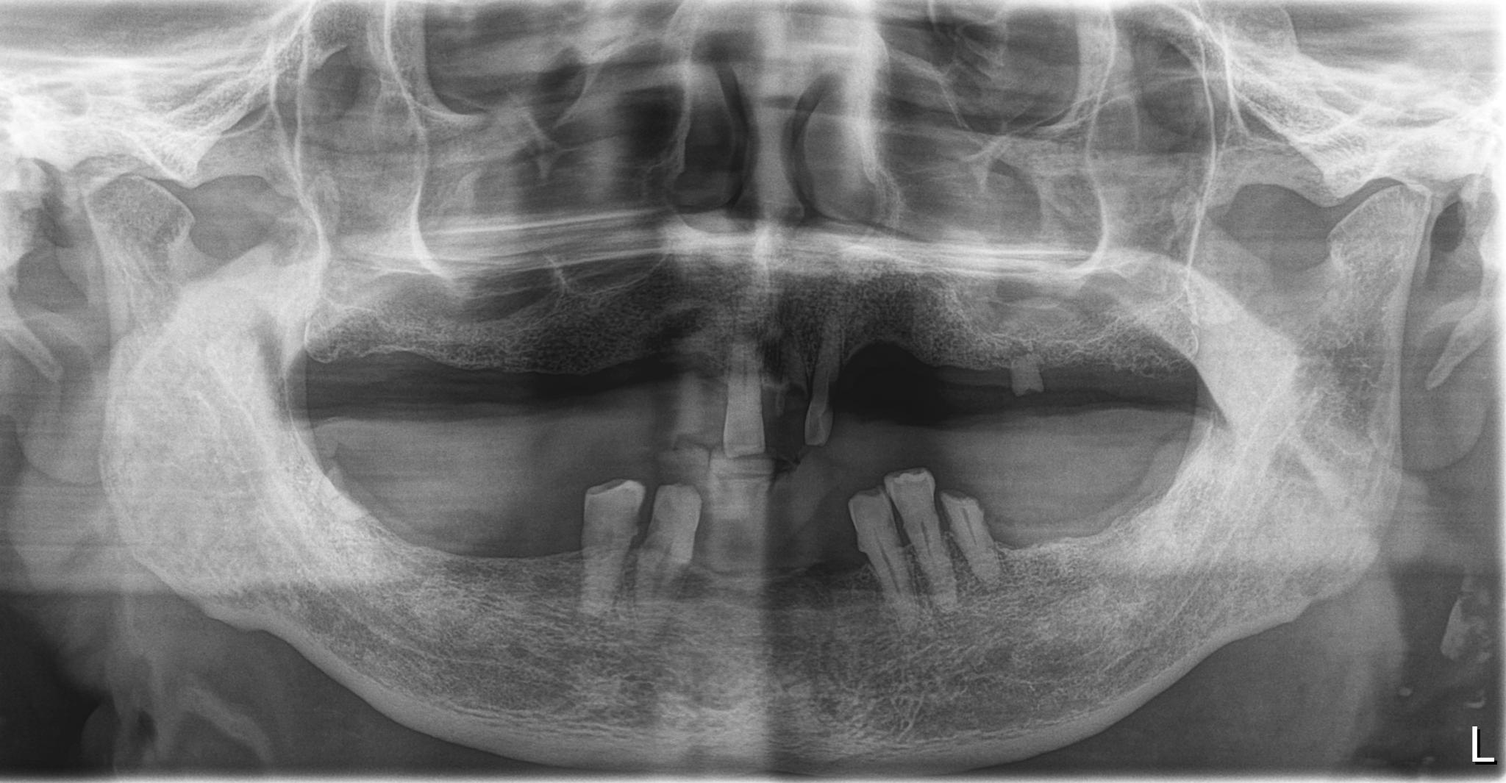Missing Tooth: (871, 246, 999, 422), (353, 303, 436, 451), (585, 311, 660, 459), (656, 309, 724, 457), (450, 300, 513, 453), (285, 301, 351, 441), (1136, 290, 1195, 437), (792, 502, 852, 644), (524, 307, 582, 451), (1110, 483, 1166, 616), (1077, 287, 1127, 426), (719, 505, 773, 631), (415, 496, 470, 611), (482, 500, 533, 617), (1009, 478, 1055, 601), (364, 493, 413, 603), (1063, 478, 1102, 613), (548, 505, 590, 629)
Retained Root: (768, 301, 807, 448), (1006, 322, 1060, 420)
